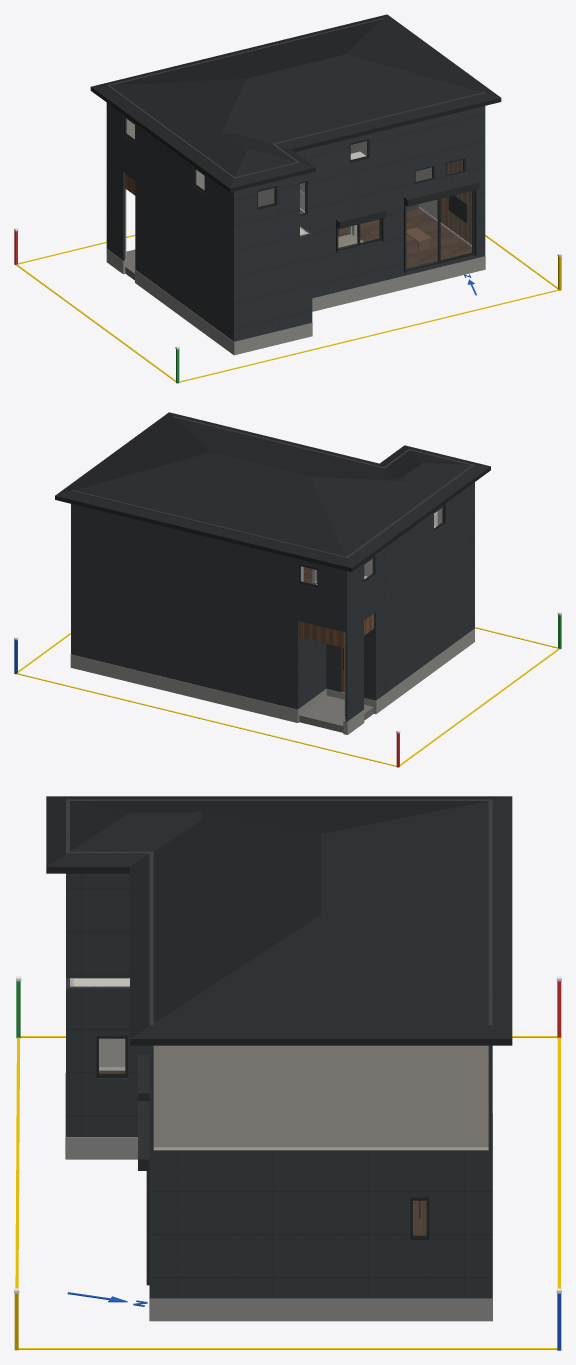
3 views of the same model, one above another, from view 1: azimuth 30°, elevation 25°; view 2: azimuth 150°, elevation 25°; view 3: azimuth 270°, elevation 25° (orthographic). The views are drawn at different scales.
Parts seen in each view (by area): view 1: siding, roof, glass, found, floor, frame, shutter, lotline, wall, accent; view 2: siding, roof, found, lotline, tile, woodceil, wall, glass, frame; view 3: roof, siding, wall, found, lotline, shutter, baseboard, glass, frame.
Boxes of the visible parts, bbox=[...] form: siding: bbox=[106, 18, 485, 341]; roof: bbox=[90, 14, 501, 192]; glass: bbox=[126, 119, 471, 268]; found: bbox=[106, 249, 485, 355]; floor: bbox=[338, 208, 471, 267]; frame: bbox=[124, 116, 474, 271]; shutter: bbox=[336, 180, 479, 273]; lotline: bbox=[16, 234, 559, 382]; wall: bbox=[125, 119, 437, 255]; accent: bbox=[352, 160, 471, 244]; siding: bbox=[71, 416, 474, 721]; roof: bbox=[55, 412, 490, 572]; found: bbox=[70, 628, 474, 734]; lotline: bbox=[17, 627, 559, 766]; tile: bbox=[299, 695, 373, 732]; woodceil: bbox=[299, 613, 373, 647]; wall: bbox=[301, 508, 442, 716]; glass: bbox=[301, 508, 442, 584]; frame: bbox=[298, 505, 444, 669]; roof: bbox=[46, 796, 512, 1045]; siding: bbox=[66, 799, 492, 1298]; wall: bbox=[70, 978, 488, 1147]; found: bbox=[65, 1073, 492, 1321]; lotline: bbox=[15, 1036, 560, 1349]; shutter: bbox=[138, 1054, 149, 1285]; baseboard: bbox=[99, 1067, 488, 1150]; glass: bbox=[99, 1039, 425, 1234]; frame: bbox=[96, 1036, 429, 1240].
Size of the model in its own units: 14.14 by 7.01 by 10.42.
35 materials, 6 textured.
